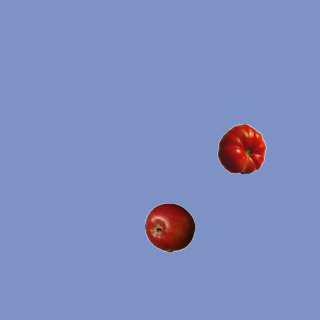Apple Braeburn: (144, 202, 194, 252)
Tomato 3: (216, 123, 266, 173)
